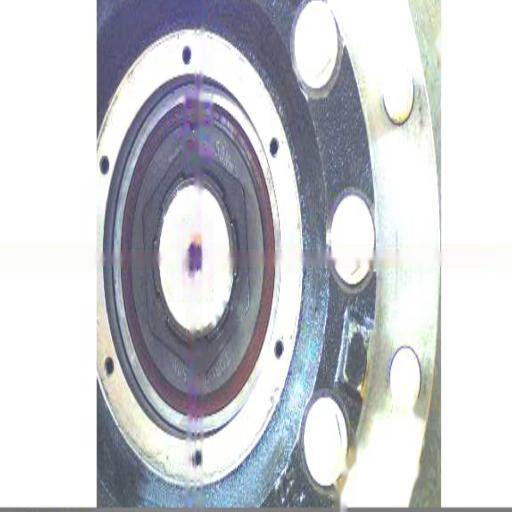center: (186, 240, 204, 284)
notch: (182, 116, 202, 136)
